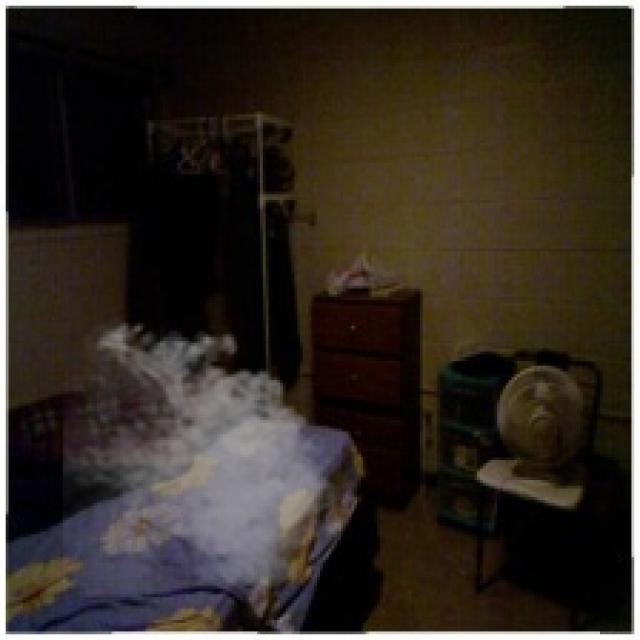Smoke: (63, 314, 346, 597)
